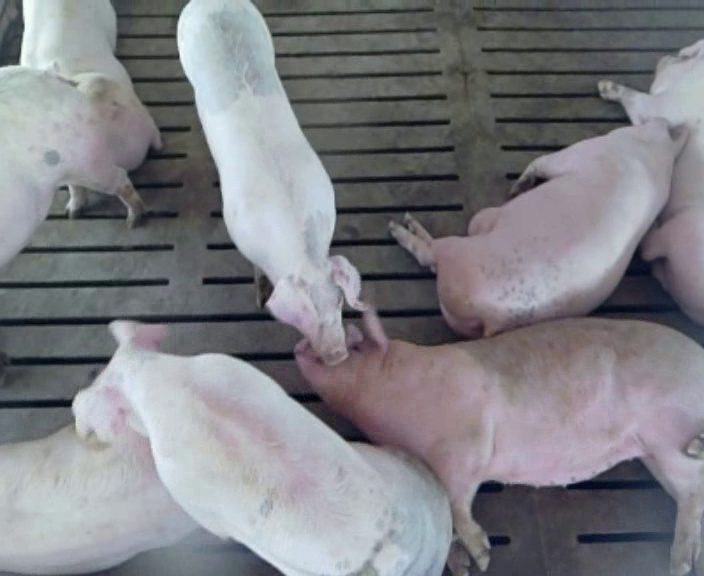pig: (73, 321, 451, 574), (178, 2, 363, 363), (391, 119, 685, 335), (0, 58, 144, 266), (598, 39, 703, 323), (0, 425, 195, 573), (20, 2, 161, 171)
